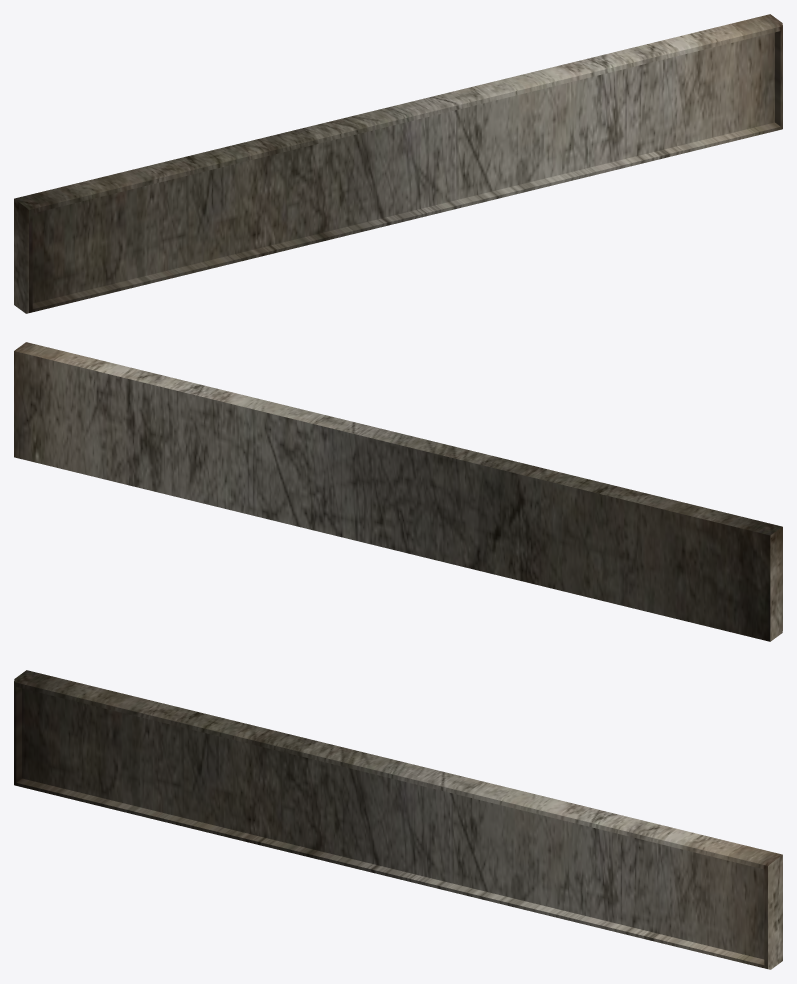
Rendered from bloque_clave_5_v2.fbx.
3 renders of one model, top to bottom at view 1: azimuth 30°, elevation 25°; view 2: azimuth 150°, elevation 25°; view 3: azimuth 330°, elevation 25°, orthographic.
Parts seen in each view (by area): view 1: bloque_clave_5; view 2: bloque_clave_5; view 3: bloque_clave_5.
Boxes of the visible parts, x1,y1,x2,y2 form: bloque_clave_5: (14,14,782,313); bloque_clave_5: (14,342,782,641); bloque_clave_5: (14,670,782,969).
Size of the model in its own units: 186 by 25.05 by 6.18.
